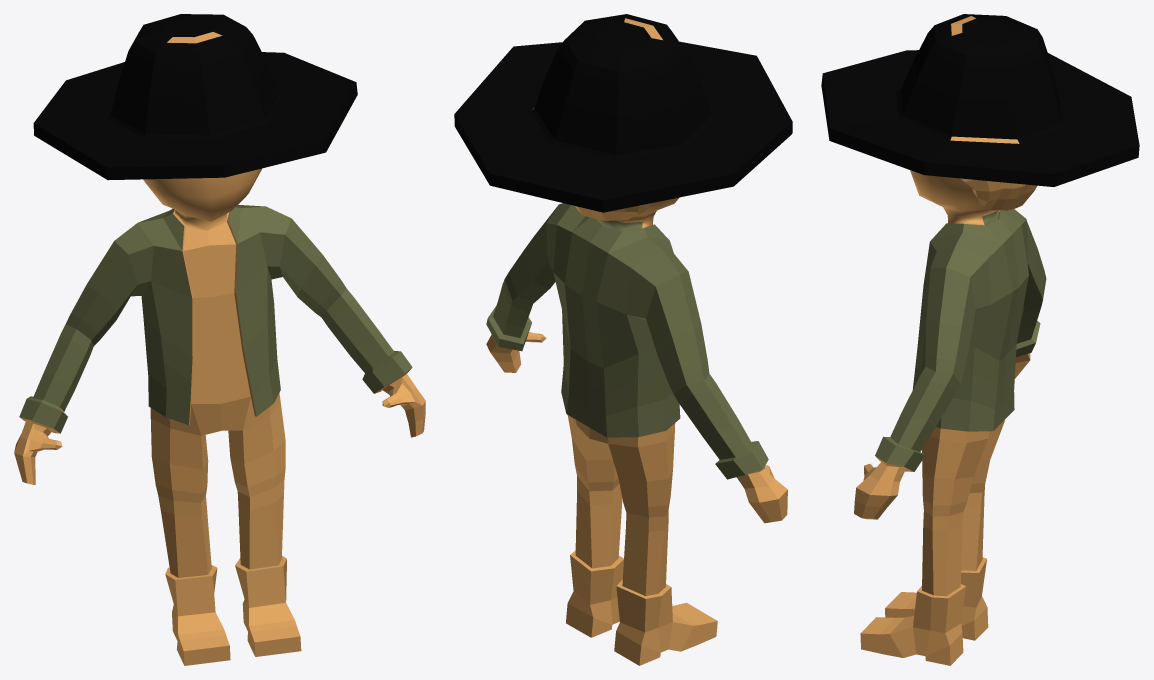
Rendered from farmer b2.fbx.
3 renders of one model, left to right at view 1: azimuth 30°, elevation 25°; view 2: azimuth 150°, elevation 25°; view 3: azimuth 270°, elevation 25°, orthographic. The views are drawn at different scales.
Visible parts, largest first — view 1: Character.001; view 2: Character.001; view 3: Character.001.
Boxes of the visible parts, x1,y1,x2,y2 form: Character.001: (14,14,425,665); Character.001: (454,14,792,665); Character.001: (821,14,1139,665).
Bounding box in the file's own units: 30.18 × 50.77 × 24.07.
